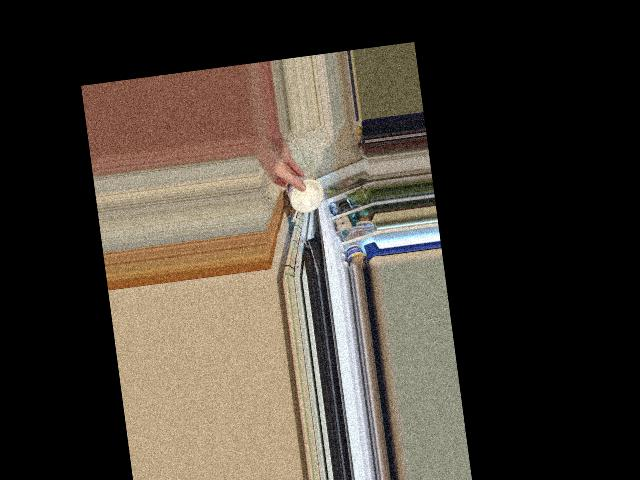cotage: (278, 170, 326, 217)
